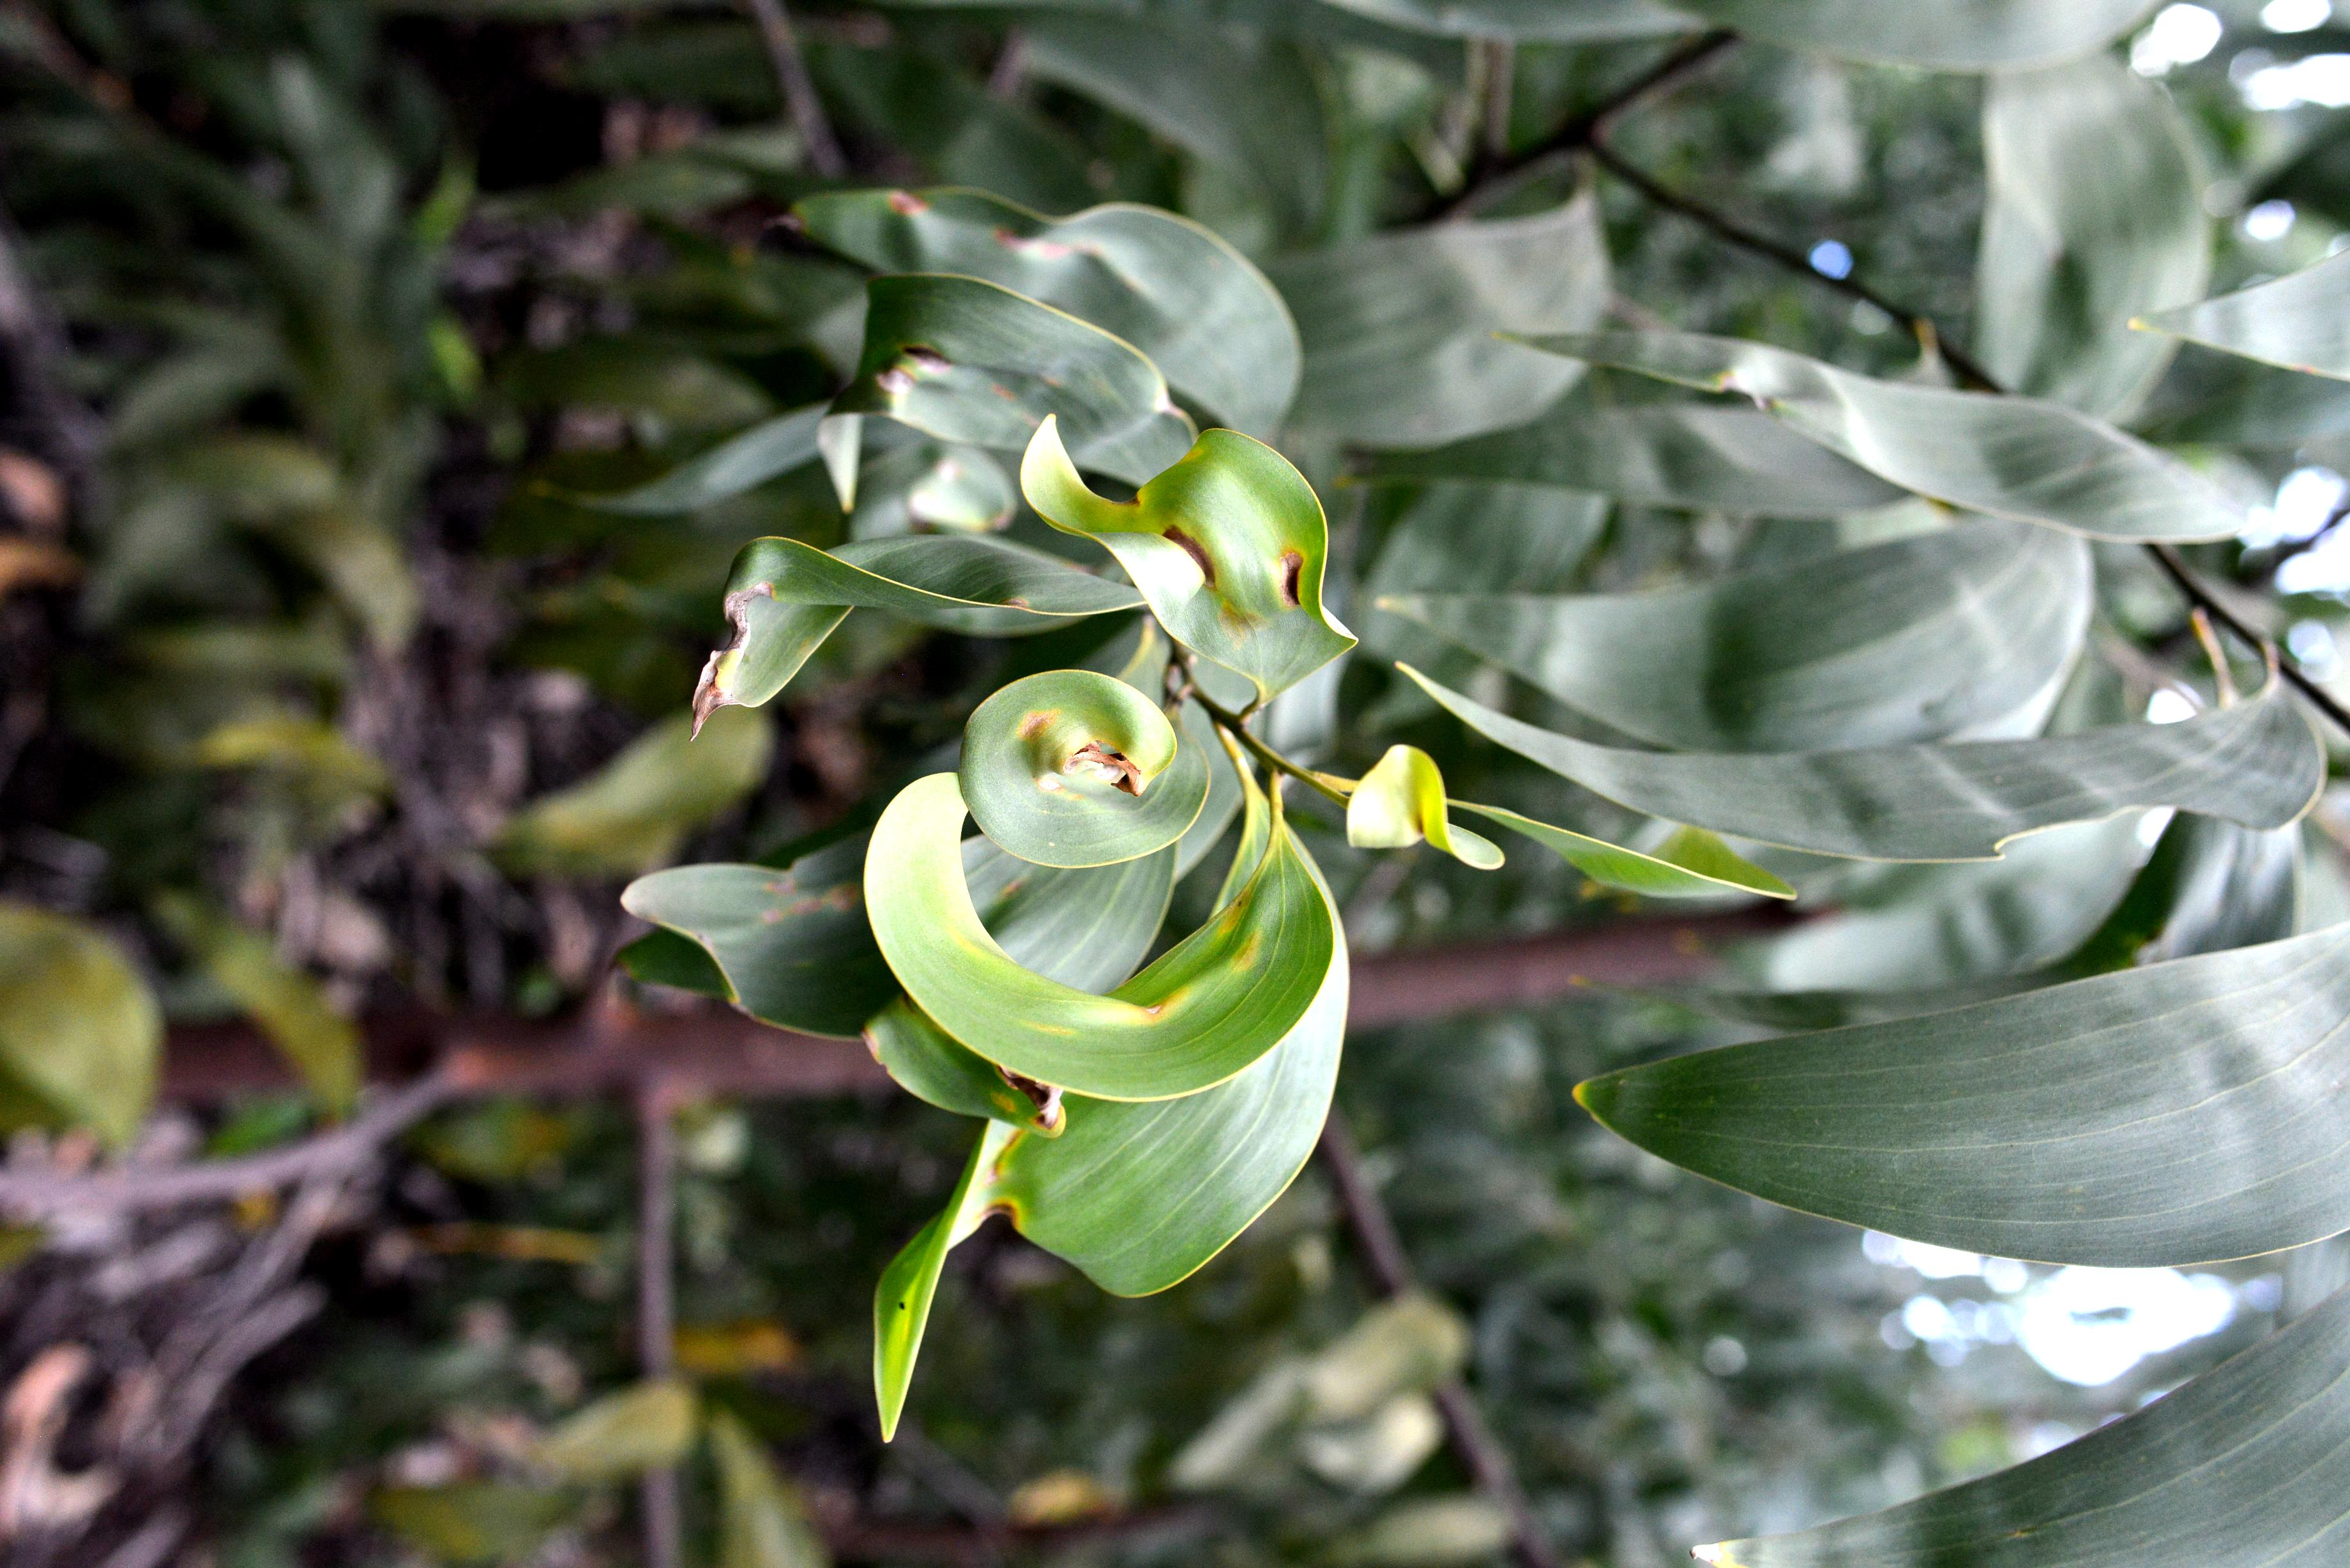Pasalora: (850, 763, 1356, 1431), (1564, 952, 2350, 1248), (1437, 294, 2263, 539), (1405, 649, 2350, 845), (1018, 399, 1347, 737), (828, 182, 1230, 390), (716, 525, 1008, 737), (560, 850, 845, 1057), (948, 667, 1207, 863), (863, 987, 1064, 1137), (1342, 742, 1517, 885)
